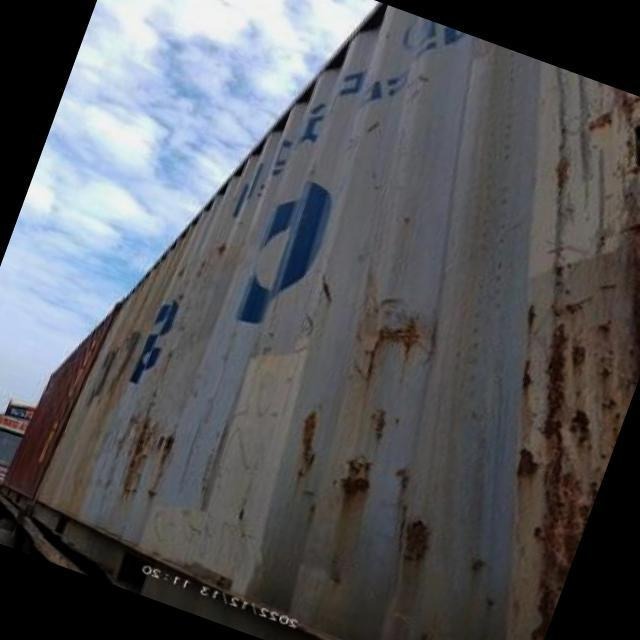rust: (417, 102, 640, 640), (348, 293, 439, 385), (275, 402, 335, 476), (324, 443, 381, 507), (387, 512, 432, 569)
